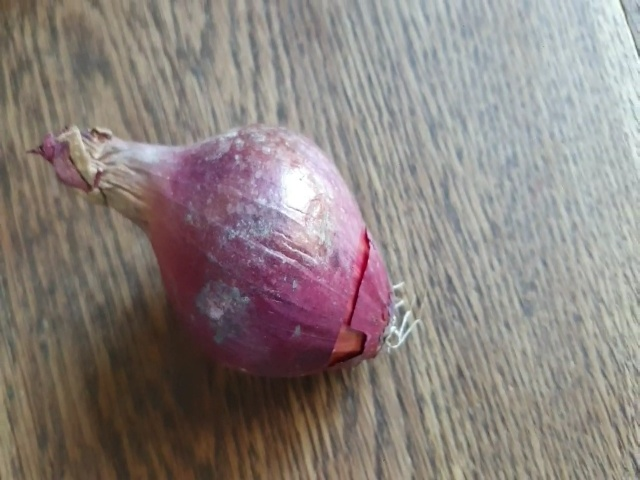red_onion: (22, 123, 435, 377)
